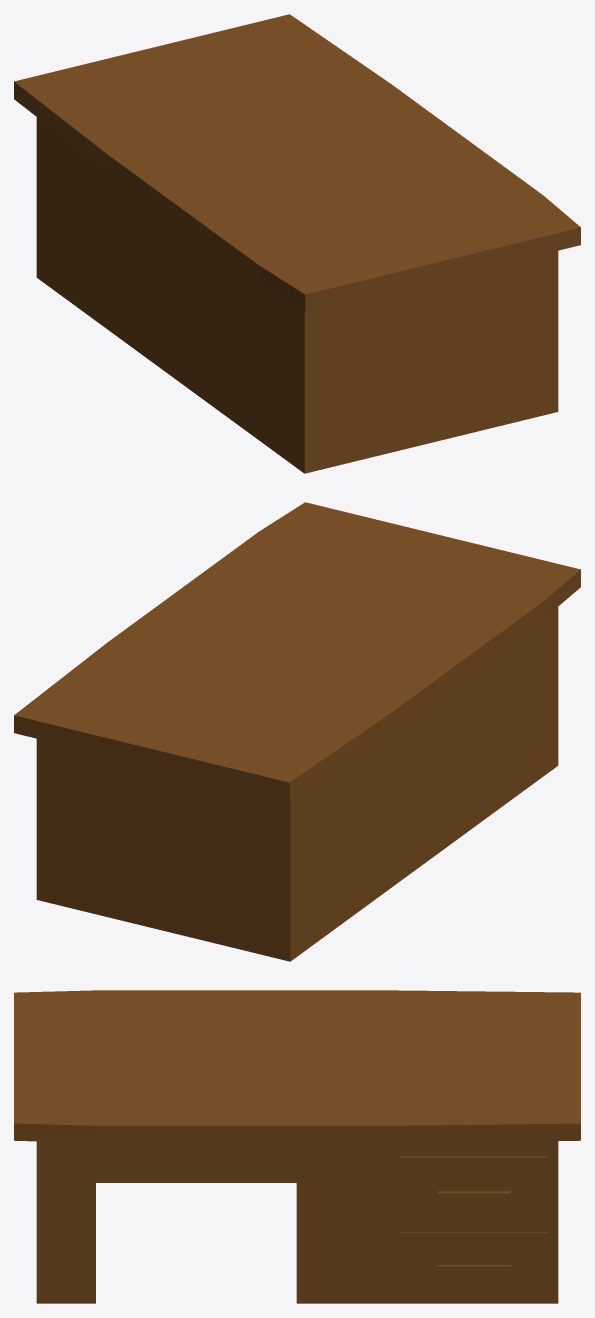
Rendered from Escritorio.fbx.
The picture shows the model from 3 angles, top to bottom: view 1: azimuth 30°, elevation 25°; view 2: azimuth 150°, elevation 25°; view 3: azimuth 270°, elevation 25°; orthographic projection. The views are drawn at different scales.
Visible parts, largest first — view 1: Cube; view 2: Cube; view 3: Cube.
Part boxes in pixels (left/top/right/bottom): Cube: left=14, top=14, right=580, bottom=473; Cube: left=14, top=502, right=580, bottom=961; Cube: left=14, top=990, right=580, bottom=1303.
Bounding box in the file's own units: 1488 × 950 × 2634.
